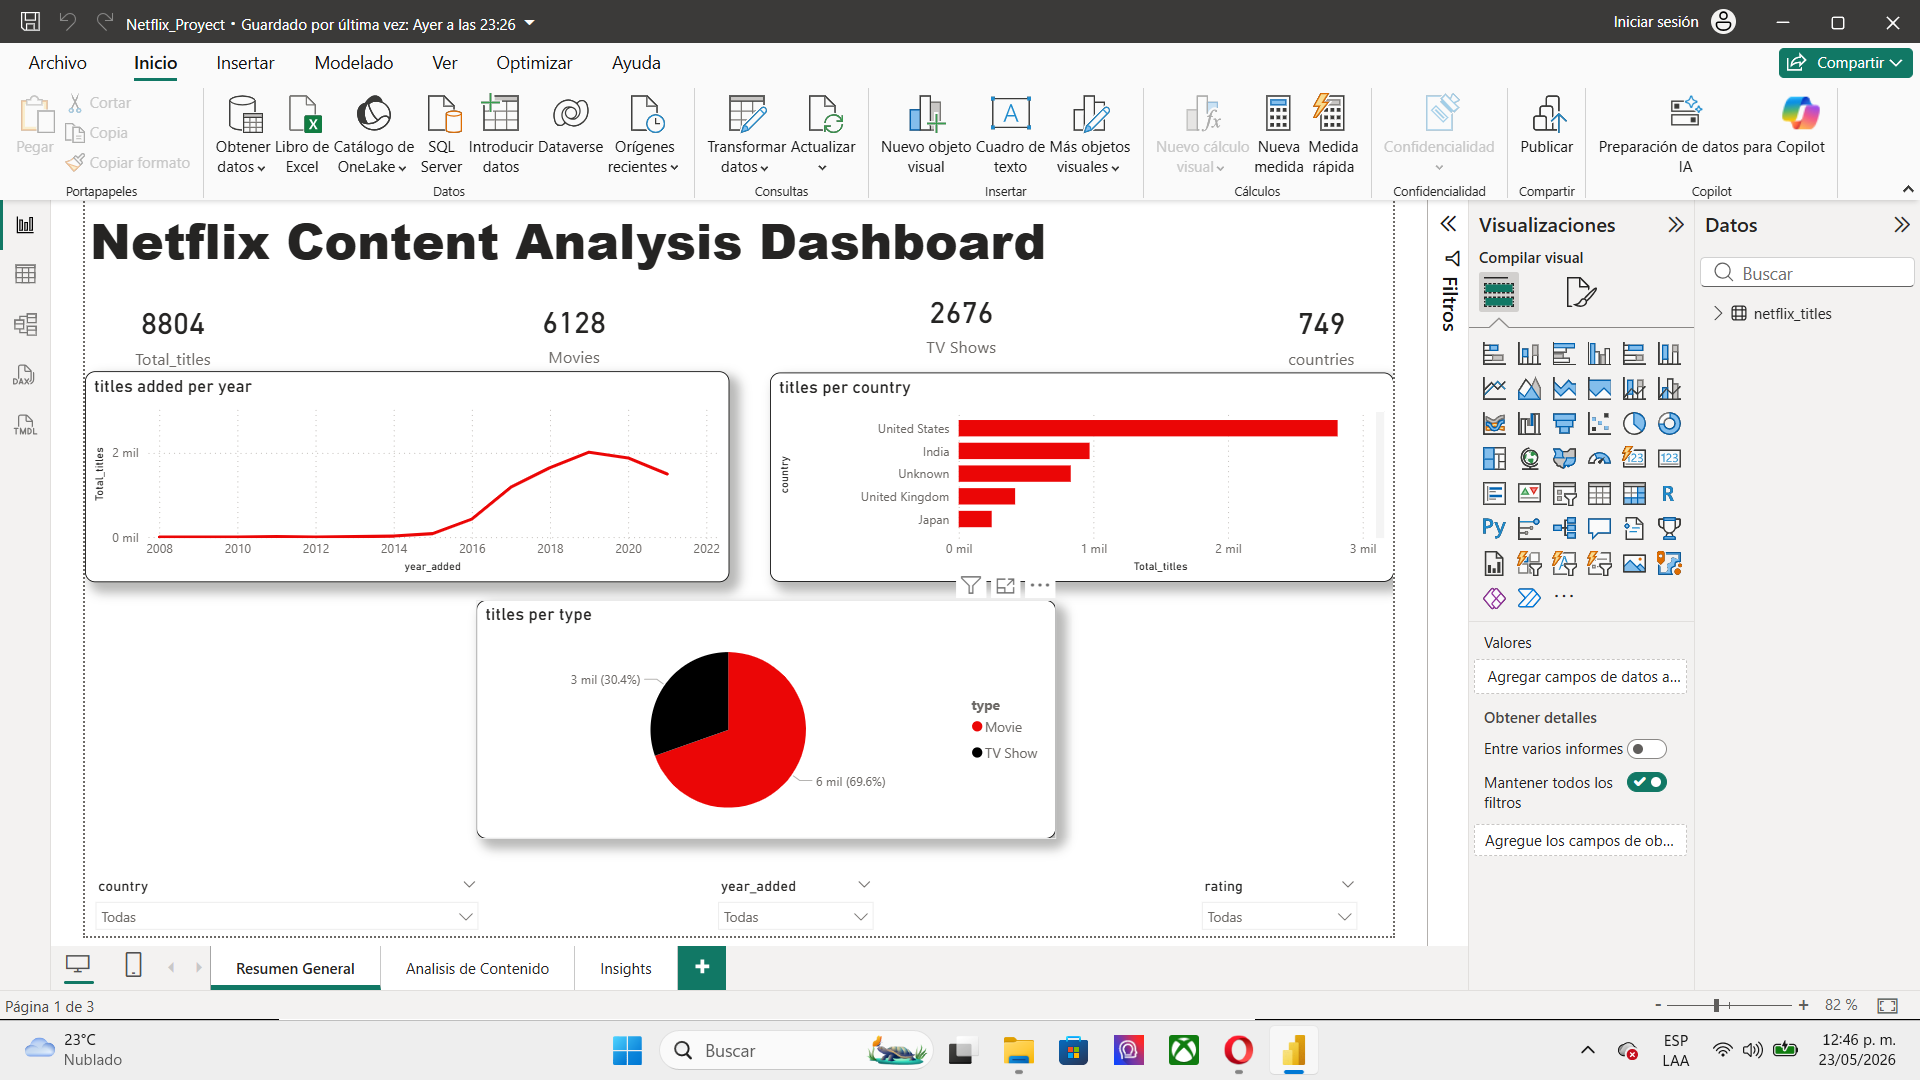

The dashboard page shown, as its layout file describes it:
{"tool":"powerbi","page":{"name":"Resumen General","canvas":[1280,720],"ordinal":0},"visuals":[{"type":"card","fields":{"Values":["netflix_titles.Total_titles"]},"box":[0,92.5,172.5,75],"z":0},{"type":"card","fields":{"Values":["netflix_titles.Movies"]},"box":[400,91.2,157.5,75],"z":1000},{"type":"card","fields":{"Values":["netflix_titles.TV Shows"]},"box":[763.8,82.5,186.2,75],"z":2000},{"type":"card","fields":{"Values":["netflix_titles.countries"]},"box":[1140,91.2,140,77.5],"z":3000},{"type":"lineChart","title":"titles added per year","fields":{"Category":["netflix_titles.year_added"],"Y":["netflix_titles.Total_titles"]},"box":[0,167.5,630,206.2],"z":4000},{"type":"slicer","fields":{"Values":["netflix_titles.country"]},"box":[0,657.5,395,62.5],"z":5000},{"type":"slicer","fields":{"Values":["netflix_titles.year_added"]},"box":[608.8,657.5,172.5,62.5],"z":6000},{"type":"slicer","fields":{"Values":["netflix_titles.rating"]},"box":[1082.5,657.5,172.5,62.5],"z":7000},{"type":"textbox","box":[0,0,957.5,82.5],"z":8000},{"type":"barChart","title":"titles per country","fields":{"Y":["netflix_titles.Total_titles"],"Category":["netflix_titles.country"]},"box":[670,168.8,610,205],"z":9000},{"type":"pieChart","title":"titles per type","fields":{"Category":["netflix_titles.type"],"Y":["netflix_titles.Total_titles"]},"box":[382.5,391.2,567.5,233.8],"z":10000}]}

Visuals, with their boxes on the page's 1280x720 design canvas (x1, y1, x2, y2). These are canvas units, not pixel positions in the 1920x1080 screenshot, which may show the page scaled, cropped or inside an application window:
card - netflix_titles.Total_titles: {"left": 0, "top": 92, "right": 172, "bottom": 168}
card - netflix_titles.Movies: {"left": 400, "top": 91, "right": 558, "bottom": 166}
card - netflix_titles.TV Shows: {"left": 764, "top": 82, "right": 950, "bottom": 158}
card - netflix_titles.countries: {"left": 1140, "top": 91, "right": 1280, "bottom": 169}
"titles added per year" lineChart: {"left": 0, "top": 168, "right": 630, "bottom": 374}
slicer - netflix_titles.country: {"left": 0, "top": 658, "right": 395, "bottom": 720}
slicer - netflix_titles.year_added: {"left": 609, "top": 658, "right": 781, "bottom": 720}
slicer - netflix_titles.rating: {"left": 1082, "top": 658, "right": 1255, "bottom": 720}
textbox: {"left": 0, "top": 0, "right": 958, "bottom": 82}
"titles per country" barChart: {"left": 670, "top": 169, "right": 1280, "bottom": 374}
"titles per type" pieChart: {"left": 382, "top": 391, "right": 950, "bottom": 625}
